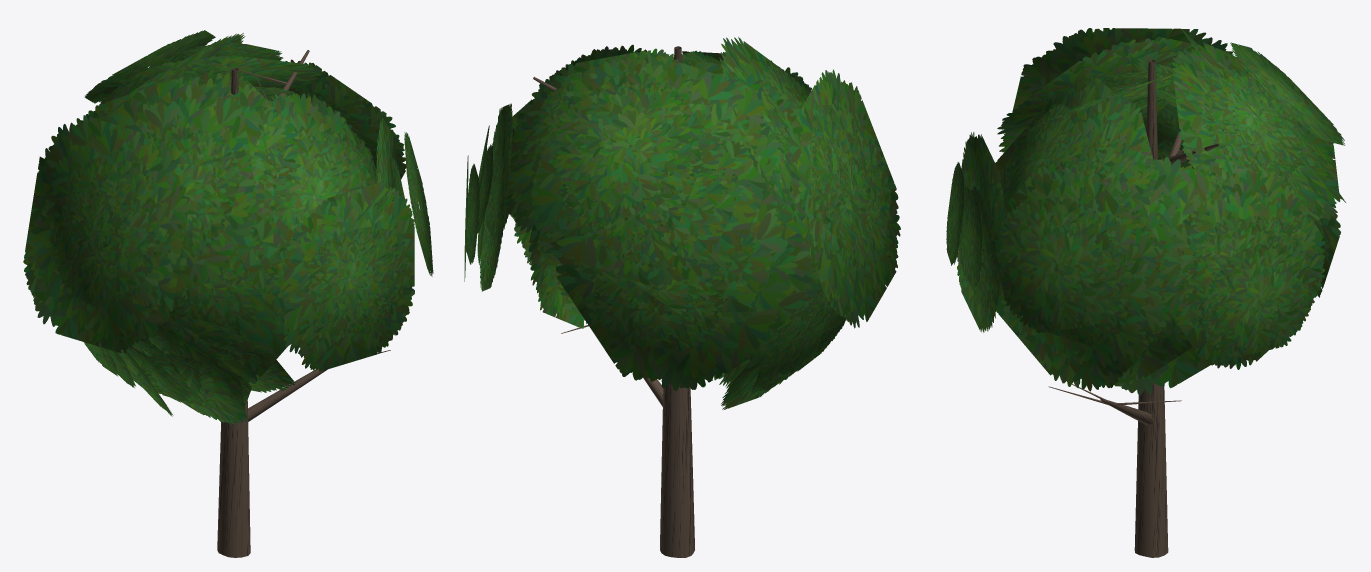
The model's file is Chestnut_LOD0.fbx.
3 views of the same model, side by side, from view 1: azimuth 30°, elevation 25°; view 2: azimuth 150°, elevation 25°; view 3: azimuth 270°, elevation 25° (orthographic). The views are drawn at different scales.
Visible parts, largest first — view 1: Chestnut_LOD0; view 2: Chestnut_LOD0; view 3: Chestnut_LOD0.
Part boxes in pixels (x1,y1,x2,y2): Chestnut_LOD0: (23,30,433,557); Chestnut_LOD0: (464,37,900,557); Chestnut_LOD0: (946,28,1345,557).
Size of the model in its own units: 12.98 by 16.68 by 12.11.
Materials: 1 (1 with a texture image).
